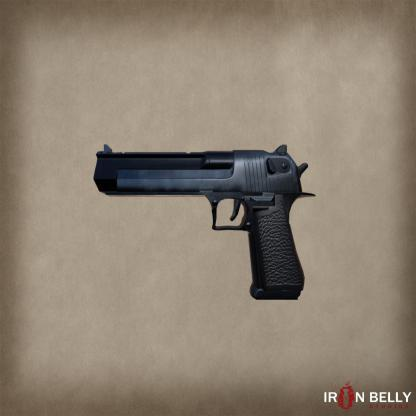Pistol: (91, 141, 317, 298)
